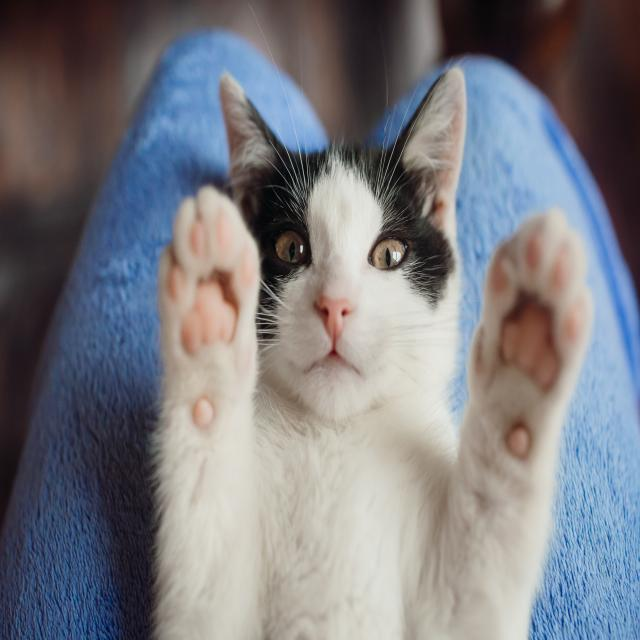cats-dogs: (157, 63, 596, 640)
